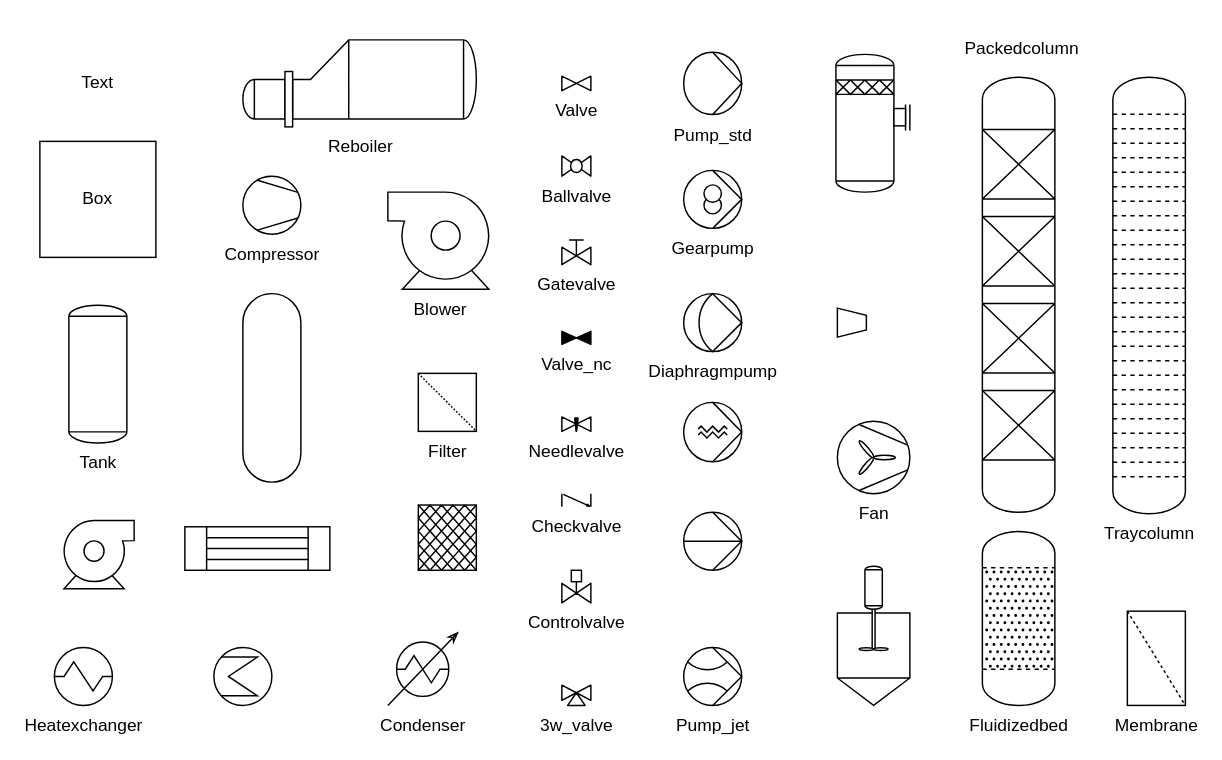
The diagram is 1222 pixels wide and 760 high, and some of its shapes have lost their labels. The shapes that lost their labels are listed below. From the top down, each one's centre as x and y in pixels, then its label:
At point (872, 122): "Knockoutdrum".
At point (851, 322): "Reducer".
At point (271, 387): "Vessel".
At point (712, 431): "Screwpump".
At point (97, 554): "Pump".
At point (256, 547): "Shelltube".
At point (446, 537): "Filter_2".
At point (712, 540): "Pump_centri".
At point (873, 635): "Mixingreactor".
At point (242, 675): "Heatexchanger_2".
